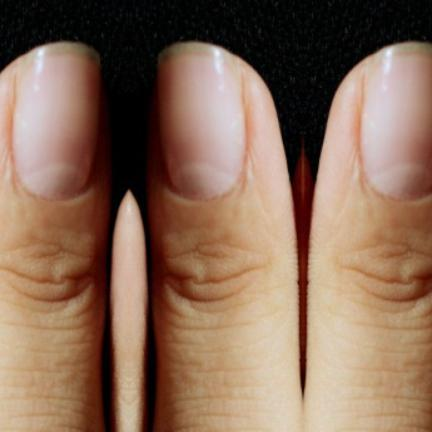Nail: (157, 43, 245, 200), (11, 43, 99, 200), (360, 43, 432, 200)
